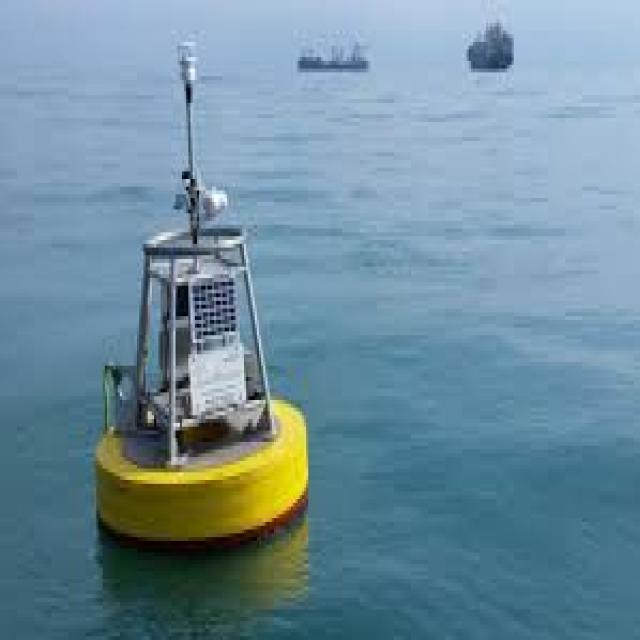buoy: (86, 19, 319, 554)
